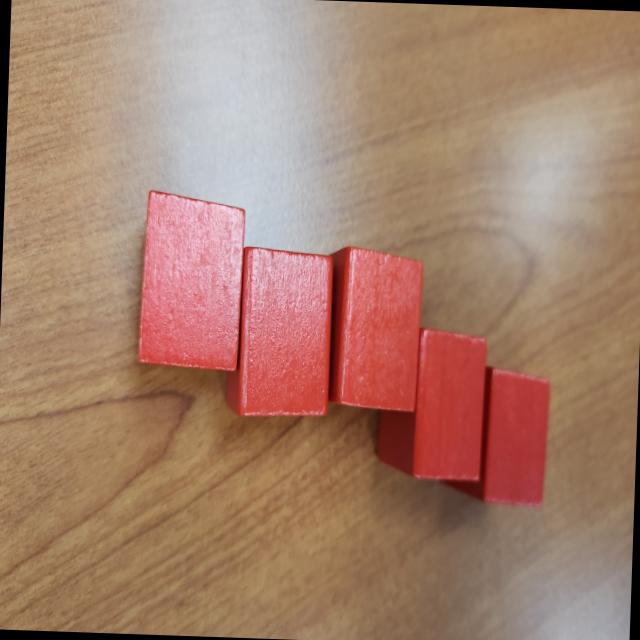red: (224, 246, 340, 422), (135, 192, 248, 372), (374, 326, 487, 481), (326, 246, 426, 412), (478, 366, 552, 509)
